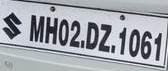0: (128, 28, 141, 57), (59, 18, 69, 47)
1: (153, 30, 164, 64), (117, 26, 129, 56)
2: (70, 20, 81, 49)
6: (141, 29, 155, 60)
D: (86, 21, 99, 50)
H: (46, 14, 59, 44)
M: (28, 14, 45, 42)
Z: (99, 21, 112, 53)
